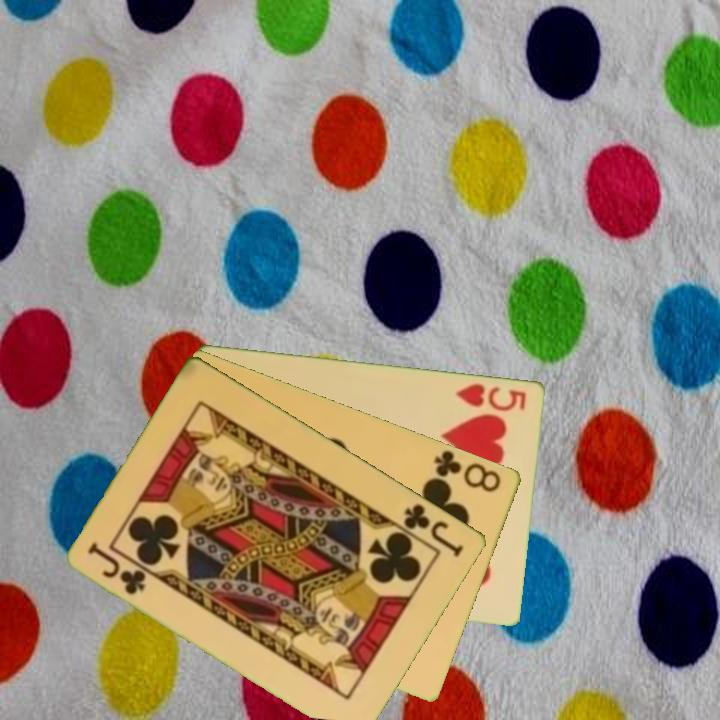5h: (452, 379, 530, 414)
8c: (431, 446, 505, 495)
Jc: (400, 499, 468, 560), (85, 539, 150, 598)
